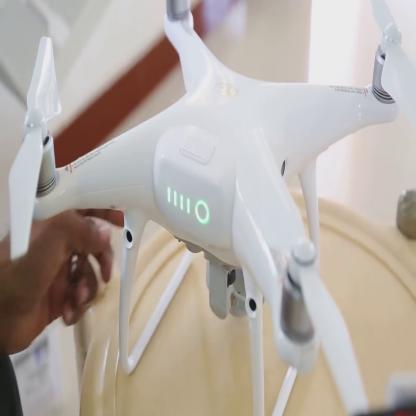drone: (9, 2, 416, 406)
